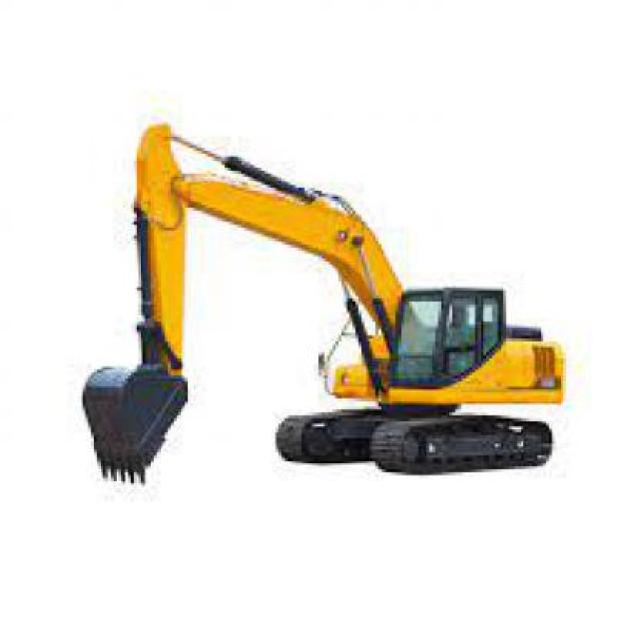excavator: (78, 122, 572, 486)
